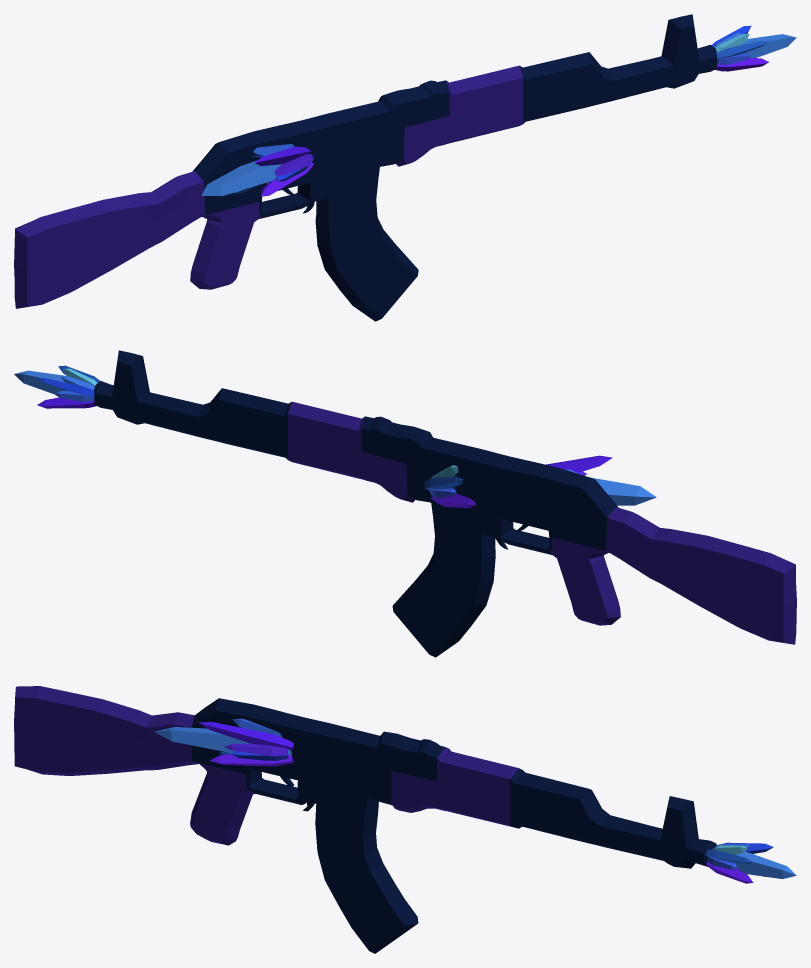
The model's file is RifleIceSkin.fbx.
3 views of the same model, one above another, from view 1: azimuth 30°, elevation 25°; view 2: azimuth 150°, elevation 25°; view 3: azimuth 330°, elevation 25° (orthographic).
Visible parts, largest first — view 1: Rifle, RifleICe, RifleMuzzle; view 2: Rifle, RifleMuzzle, RifleICe, RifleIce2; view 3: Rifle, RifleICe, RifleMuzzle.
Boxes of the visible parts, x1=… form: Rifle: x1=14, y1=14, x2=717, y2=321; RifleICe: x1=201, y1=144, x2=313, y2=196; RifleMuzzle: x1=711, y1=25, x2=796, y2=71; Rifle: x1=94, y1=350, x2=796, y2=657; RifleMuzzle: x1=14, y1=365, x2=99, y2=408; RifleICe: x1=546, y1=455, x2=656, y2=505; RifleIce2: x1=424, y1=465, x2=476, y2=508; Rifle: x1=14, y1=686, x2=716, y2=953; RifleICe: x1=154, y1=718, x2=293, y2=766; RifleMuzzle: x1=705, y1=842, x2=796, y2=883.
Size of the model in its own units: 54.46 by 554 by 156.
